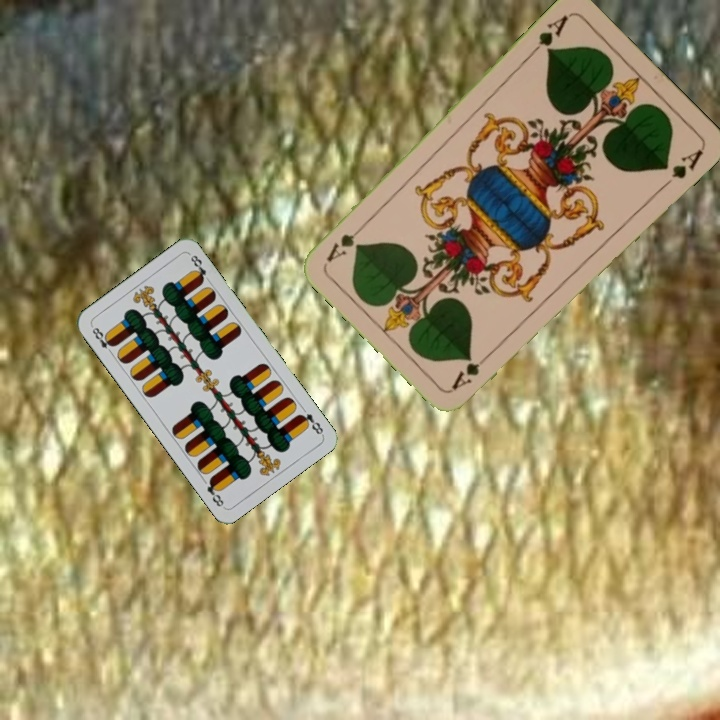E8: (88, 322, 117, 358), (294, 409, 326, 437)
GA: (526, 11, 571, 59), (448, 347, 496, 392)
